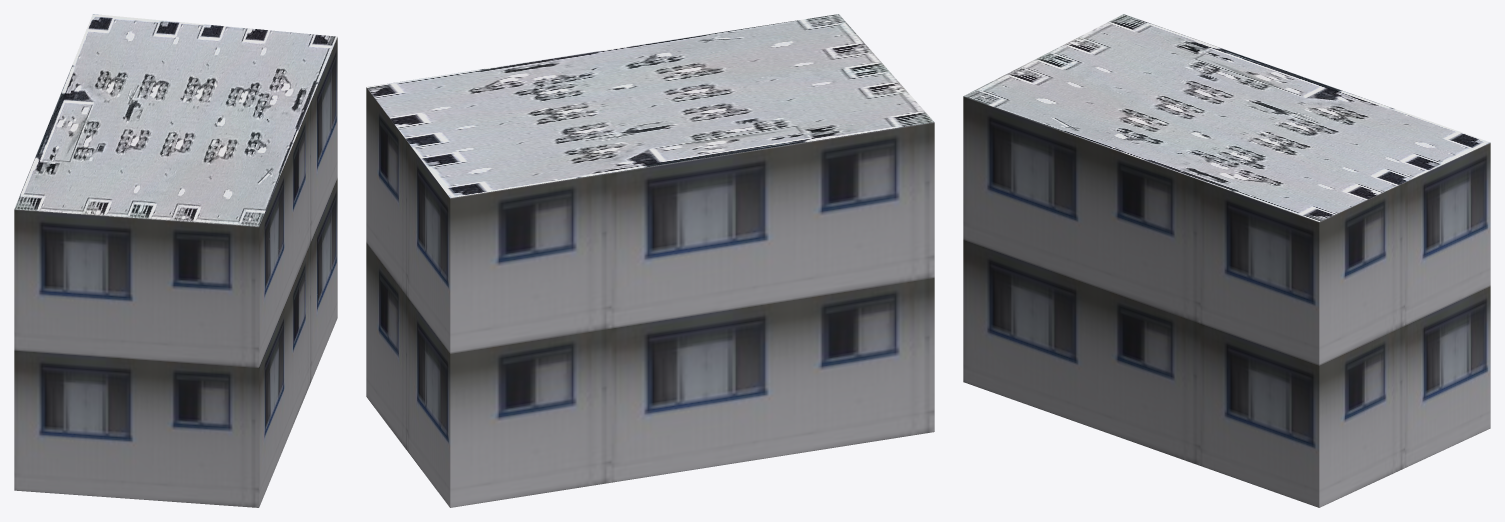
The model's file is ResTex__3030.fbx.
3 views of the same model, side by side, from view 1: azimuth 30°, elevation 25°; view 2: azimuth 150°, elevation 25°; view 3: azimuth 270°, elevation 25° (orthographic). The views are drawn at different scales.
Visible parts, largest first — view 1: CityEngineMaterial_9_m, CityEngineMaterial_2_m; view 2: CityEngineMaterial_9_m, CityEngineMaterial_2_m; view 3: CityEngineMaterial_9_m, CityEngineMaterial_2_m.
Boxes of the visible parts, bbox=[...] form: CityEngineMaterial_9_m: bbox=[14, 37, 337, 507]; CityEngineMaterial_2_m: bbox=[14, 14, 337, 226]; CityEngineMaterial_9_m: bbox=[366, 87, 934, 507]; CityEngineMaterial_2_m: bbox=[366, 14, 934, 197]; CityEngineMaterial_9_m: bbox=[963, 96, 1490, 507]; CityEngineMaterial_2_m: bbox=[963, 14, 1490, 221].
Size of the model in its own units: 9.37 by 6 by 10.04.
Materials: 2 (2 with a texture image).
